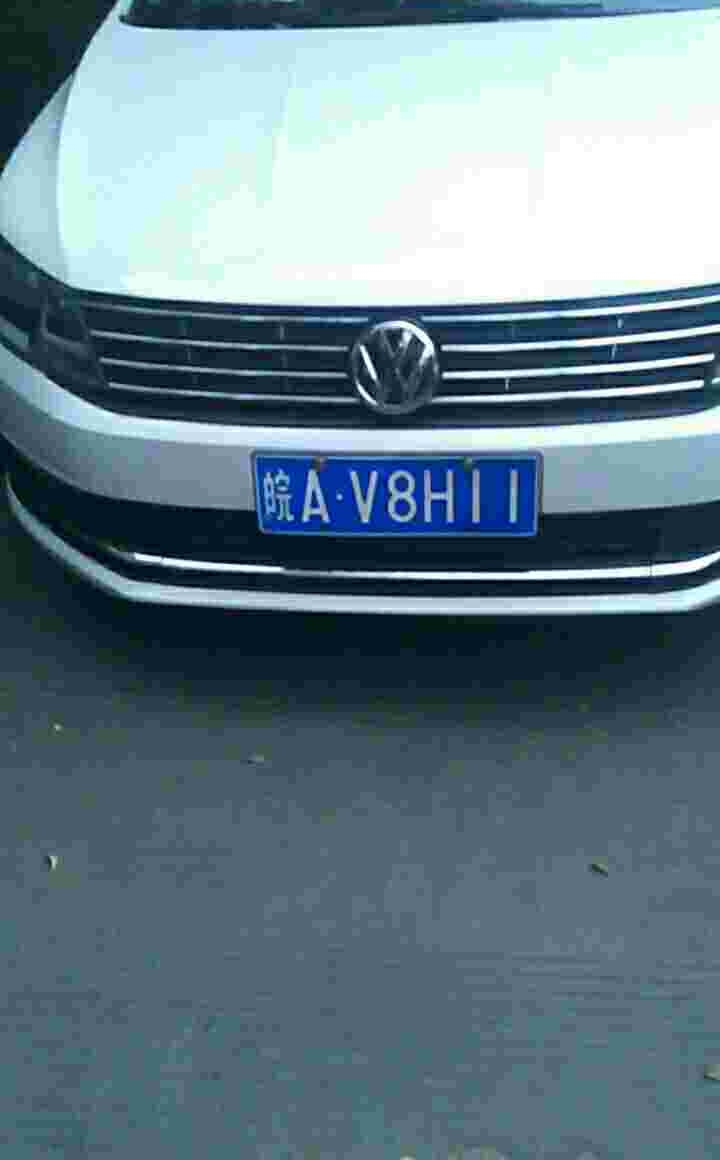license_plate: (247, 454, 557, 544)
